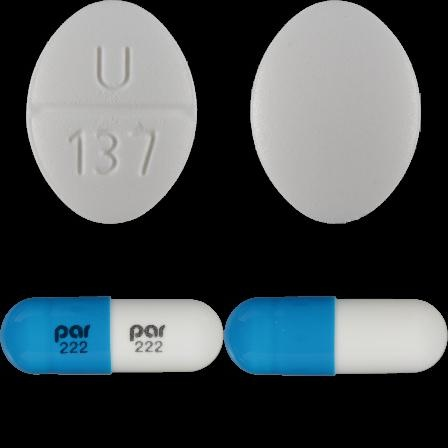61786-387: (0, 0, 224, 224)
